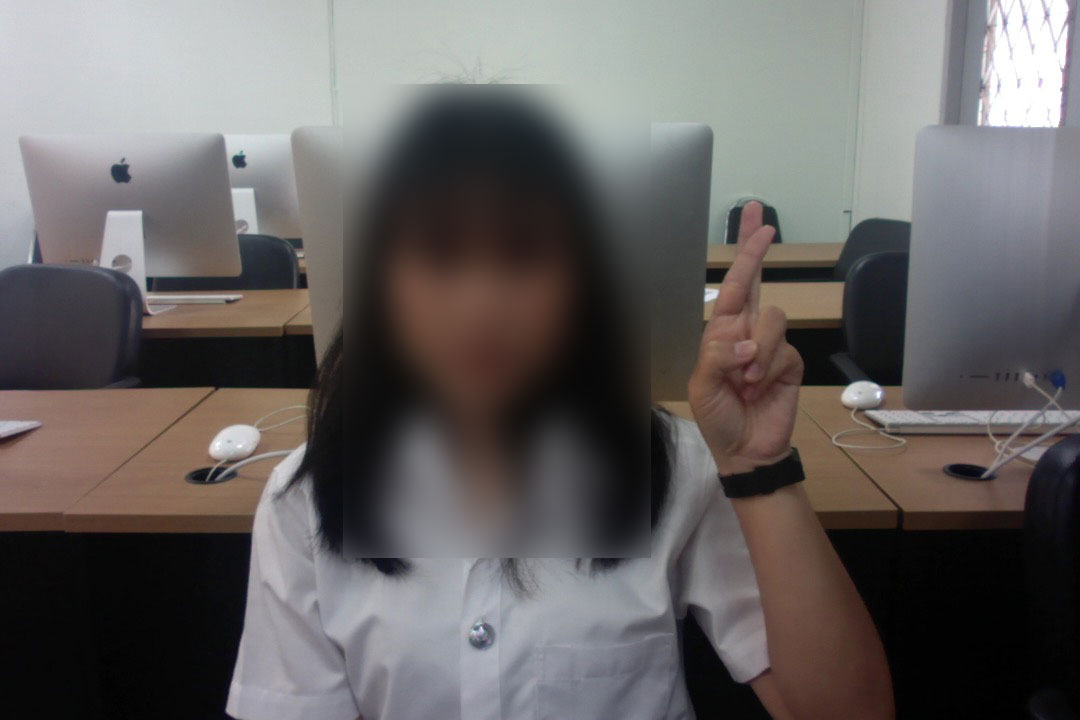rao: (679, 193, 811, 471)
